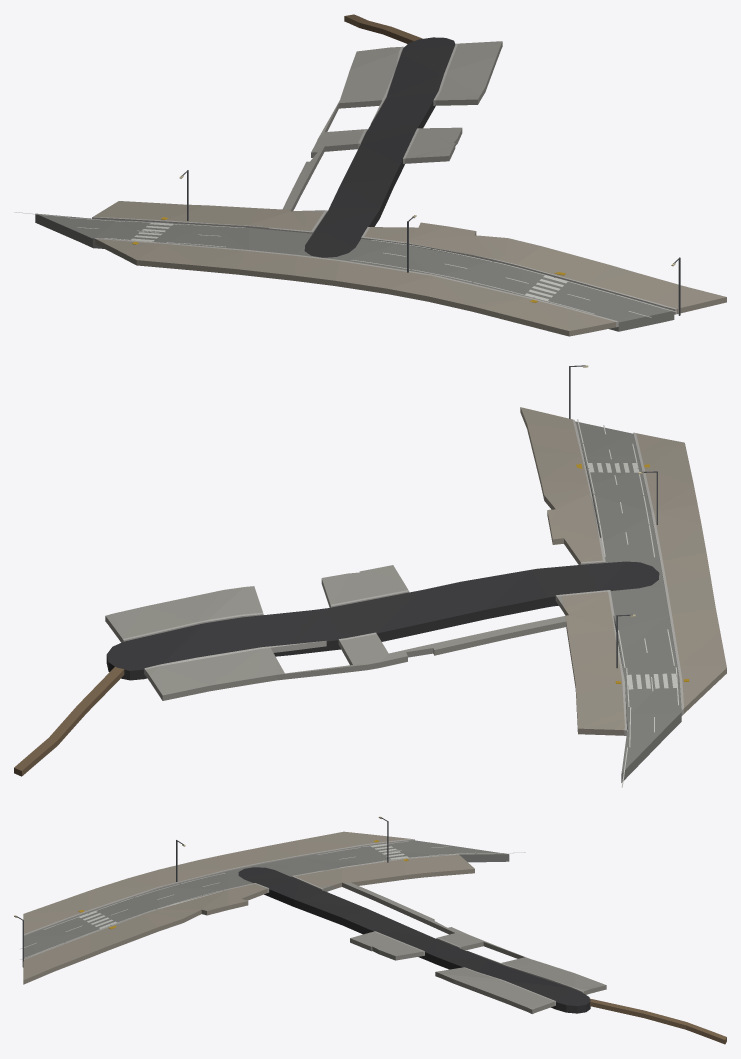
File: 18-218853-118940.ece58d34.glb
The picture shows the model from 3 angles, top to bottom: view 1: azimuth 30°, elevation 25°; view 2: azimuth 150°, elevation 25°; view 3: azimuth 270°, elevation 25°; orthographic projection. The views are drawn at different scales.
Size of the model in its own units: 66.93 by 14.68 by 103.
